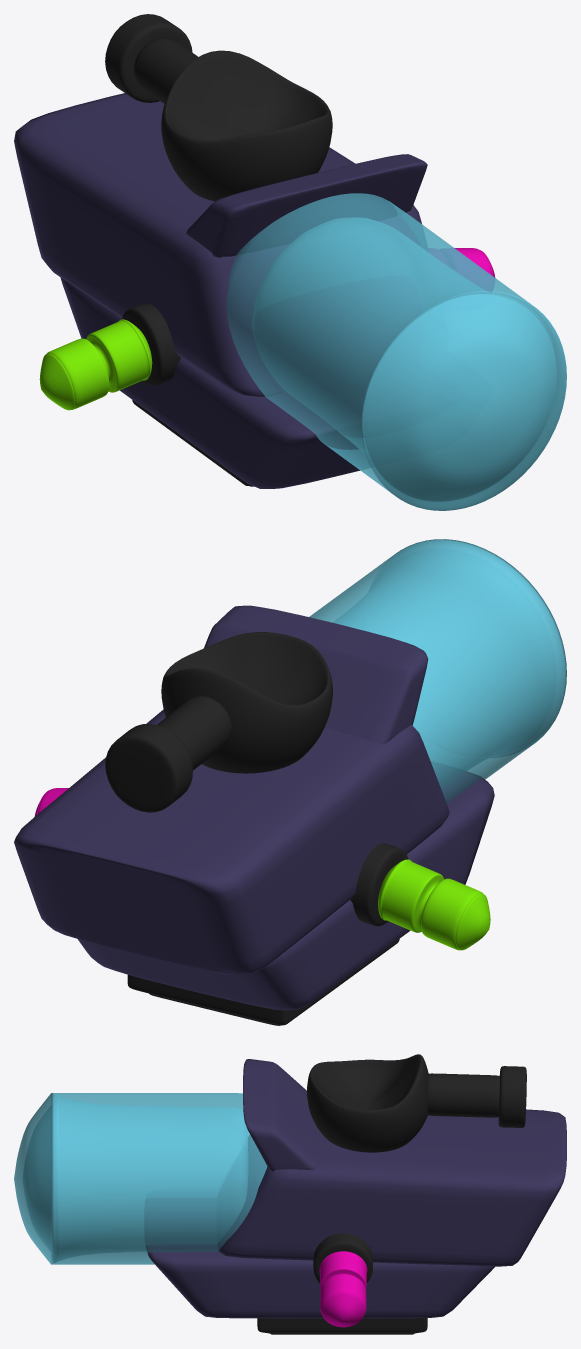
File: mocjkupcyvleengine.fbx
3 renders of one model, top to bottom at view 1: azimuth 30°, elevation 25°; view 2: azimuth 150°, elevation 25°; view 3: azimuth 270°, elevation 25°, orthographic. The views are drawn at different scales.
Parts seen in each view (by area): view 1: Cylinder.003, Cube.003, Sphere.001, Cube.001, Cube.006, Cone, Cylinder.002, Cylinder.001, Cylinder.004; view 2: Cube.003, Cylinder.003, Cube.001, Sphere.001, Cube.006, Cone, Cylinder.002, Cylinder.001, Cube.005, Cylinder.004; view 3: Cube.003, Cylinder.003, Cube.001, Sphere.001, Cube.006, Cone.002, Cylinder.001, Cube.005, Cylinder.002, Cylinder.005.
Part boxes in pixels (x1=…): Cylinder.003: x1=226, y1=193, x2=566, y2=510; Cube.003: x1=14, y1=93, x2=421, y2=396; Sphere.001: x1=161, y1=50, x2=332, y2=201; Cube.001: x1=60, y1=277, x2=363, y2=488; Cube.006: x1=186, y1=154, x2=427, y2=257; Cone: x1=39, y1=319, x2=152, y2=410; Cylinder.002: x1=105, y1=14, x2=192, y2=102; Cylinder.001: x1=133, y1=38, x2=198, y2=103; Cylinder.004: x1=122, y1=303, x2=180, y2=385; Cube.003: x1=14, y1=709, x2=449, y2=974; Cylinder.003: x1=309, y1=539, x2=566, y2=803; Cube.001: x1=78, y1=771, x2=494, y2=1010; Sphere.001: x1=161, y1=632, x2=332, y2=773; Cube.006: x1=204, y1=605, x2=428, y2=743; Cone: x1=378, y1=859, x2=490, y2=950; Cylinder.002: x1=105, y1=723, x2=192, y2=812; Cylinder.001: x1=157, y1=696, x2=231, y2=770; Cube.005: x1=127, y1=939, x2=399, y2=1025; Cylinder.004: x1=350, y1=843, x2=408, y2=926; Cube.003: x1=217, y1=1109, x2=566, y2=1266; Cylinder.003: x1=14, y1=1093, x2=267, y2=1264; Cube.001: x1=146, y1=1244, x2=494, y2=1318; Sphere.001: x1=307, y1=1054, x2=428, y2=1152; Cube.006: x1=243, y1=1059, x2=318, y2=1171; Cone.002: x1=319, y1=1251, x2=367, y2=1327; Cylinder.001: x1=428, y1=1073, x2=499, y2=1117; Cube.005: x1=257, y1=1318, x2=427, y2=1334; Cylinder.002: x1=498, y1=1066, x2=526, y2=1127; Cylinder.005: x1=313, y1=1233, x2=372, y2=1283.
Bounding box in the file's own units: 186 × 136 × 270.
